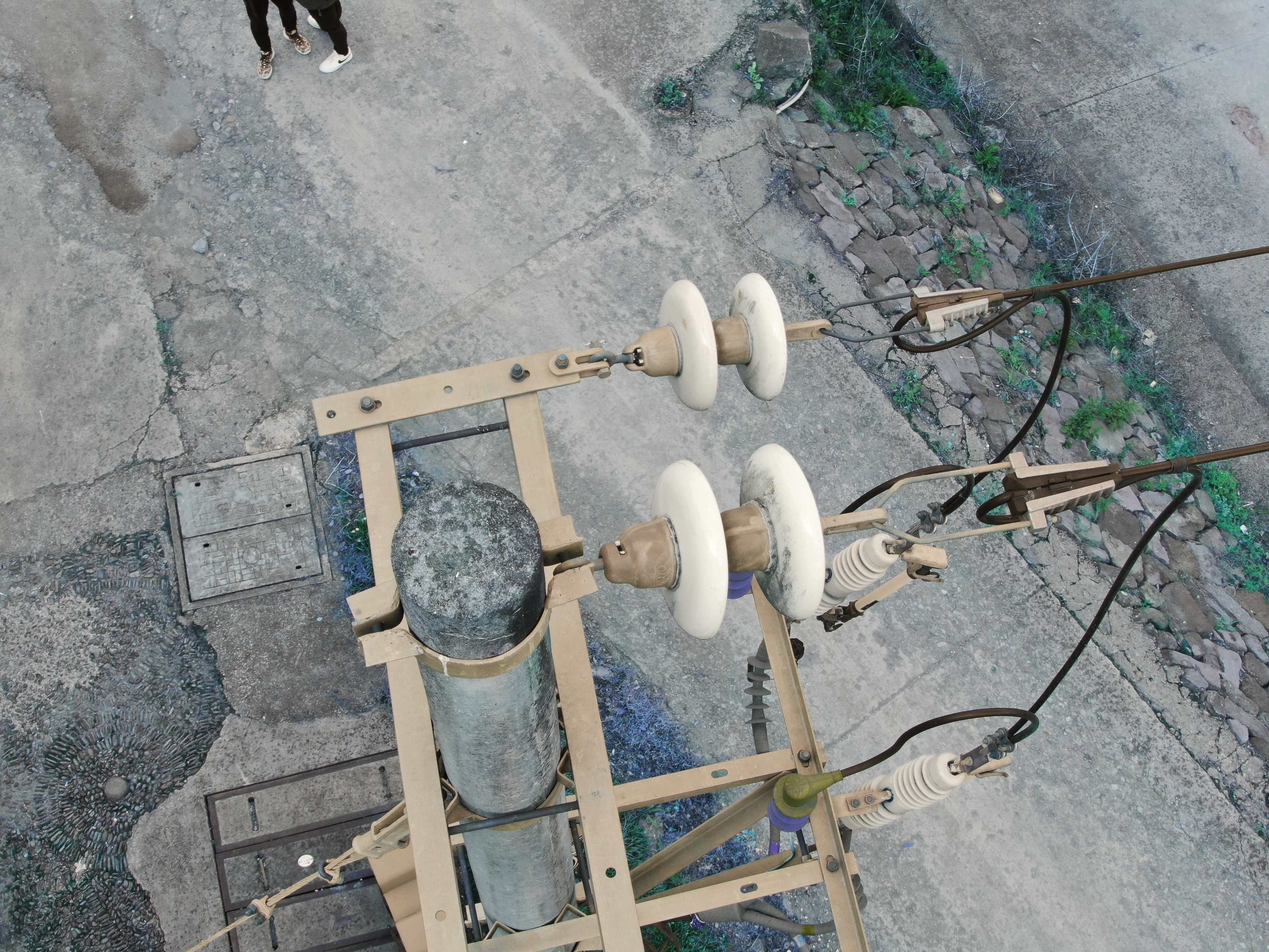severe_soiling_no_discharge_whole: (595, 434, 830, 645), (617, 260, 800, 416)
